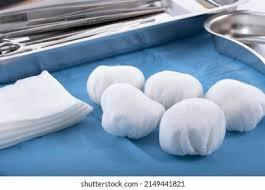cotton: (0, 106, 264, 175), (0, 71, 92, 148), (0, 71, 92, 123), (159, 98, 225, 155), (0, 105, 87, 148), (101, 83, 164, 138), (206, 79, 264, 131), (0, 103, 84, 136), (0, 105, 80, 139), (0, 116, 79, 148), (0, 103, 84, 132), (144, 71, 203, 108), (87, 65, 144, 103), (175, 0, 207, 13), (240, 1, 264, 11), (248, 43, 264, 56)
